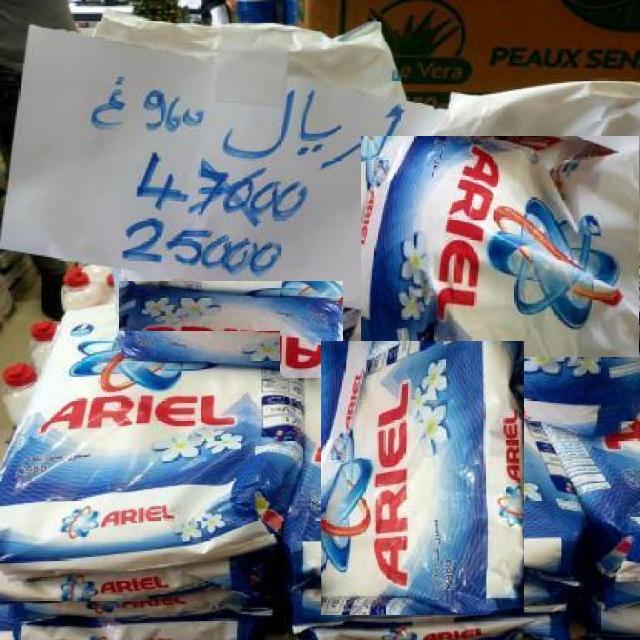Detergent: (3, 331, 280, 558), (360, 136, 640, 357), (321, 340, 524, 615), (119, 280, 343, 378)
